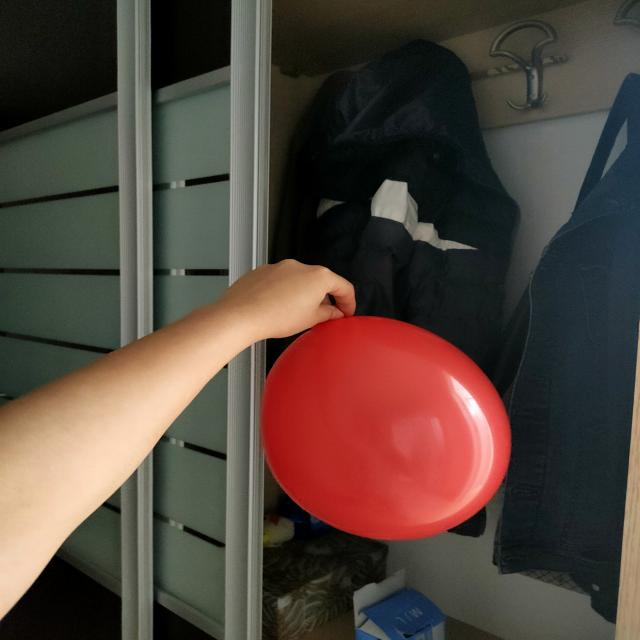red: (264, 317, 512, 540)
